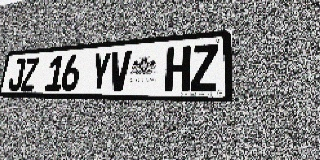1: (45, 56, 65, 91)
6: (60, 54, 82, 91)
H: (165, 46, 191, 91)
J: (7, 59, 26, 91)
V: (108, 50, 132, 91)
Y: (89, 52, 112, 91)
Z: (190, 44, 218, 91), (20, 57, 39, 91)
